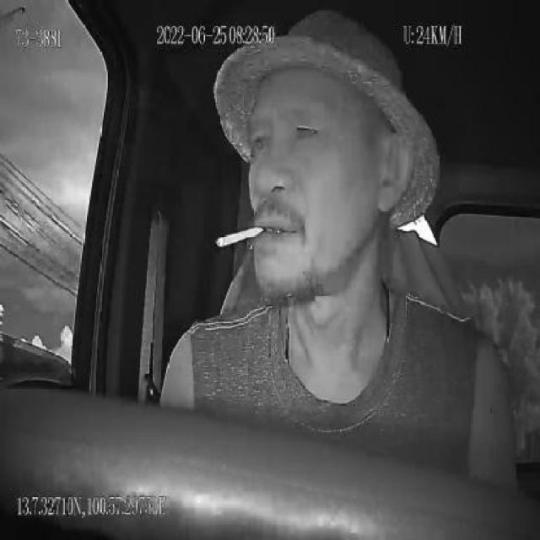smoking: (214, 224, 266, 250)
